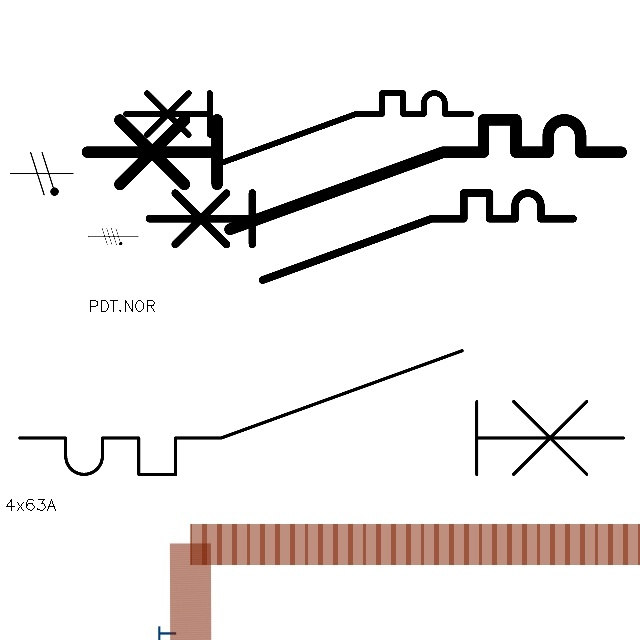interruptor_termomagnetico: (4, 335, 639, 490), (73, 106, 634, 243), (138, 182, 583, 291), (117, 84, 480, 173)
